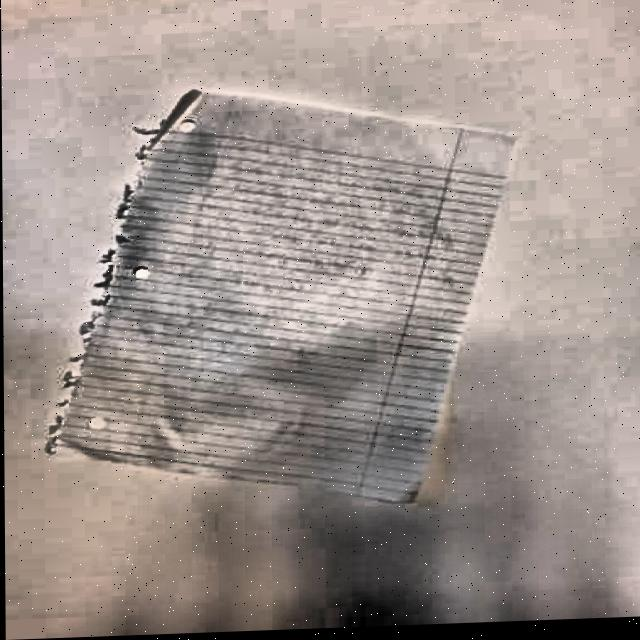paper: (43, 81, 506, 516)
